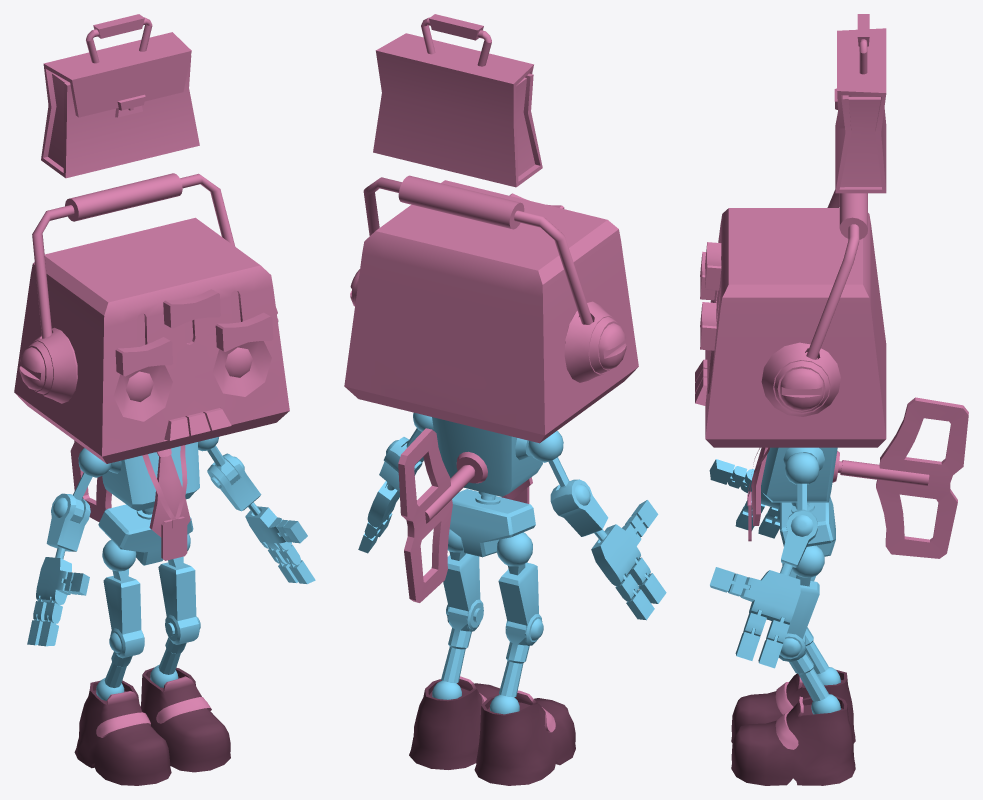
The model's file is sein_testi_ch_a_001.fbx.
The picture shows the model from 3 angles, left to right: view 1: azimuth 30°, elevation 25°; view 2: azimuth 150°, elevation 25°; view 3: azimuth 270°, elevation 25°; orthographic projection. The views are drawn at different scales.
Visible parts, largest first — view 1: head, ch_A_body, bag, shoses, headset, eyebrow_1, necktie, eyebrow_2, bag_string, spring, card, card_srring; view 2: head, ch_A_body, bag, shoses, headset, spring, bag_string; view 3: head, ch_A_body, shoses, spring, bag, headset, eyebrow_1, eyebrow_2, necktie, bag_string.
Boxes of the visible parts, x1,y1,x2,y2 form: head: (14, 217, 289, 463); ch_A_body: (27, 437, 315, 700); bag: (41, 32, 199, 178); shoses: (74, 667, 230, 785); headset: (32, 173, 235, 403); eyebrow_1: (115, 312, 273, 376); necktie: (149, 448, 190, 537); eyebrow_2: (163, 289, 220, 328); bag_string: (86, 14, 152, 63); spring: (70, 440, 111, 521); card: (161, 516, 187, 560); card_srring: (142, 445, 187, 520); head: (344, 180, 638, 443); ch_A_body: (358, 412, 666, 714); bag: (373, 33, 542, 187); shoses: (409, 676, 575, 785); headset: (363, 175, 615, 382); spring: (398, 428, 487, 602); bag_string: (421, 14, 491, 66); head: (695, 208, 886, 447); ch_A_body: (709, 447, 840, 714); shoses: (731, 670, 855, 785); spring: (832, 397, 968, 558); bag: (834, 28, 886, 193); headset: (761, 190, 867, 416); eyebrow_1: (700, 251, 716, 350); eyebrow_2: (705, 242, 721, 290); necktie: (752, 447, 767, 525); bag_string: (857, 14, 869, 74).
Size of the model in its own units: 56.03 by 141 by 47.78.
